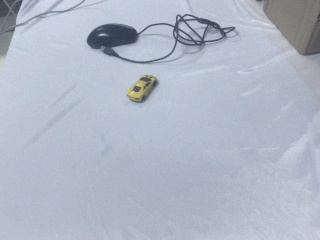box: (262, 1, 320, 56)
mouse: (87, 24, 138, 49)
toy_car: (122, 72, 166, 106)
